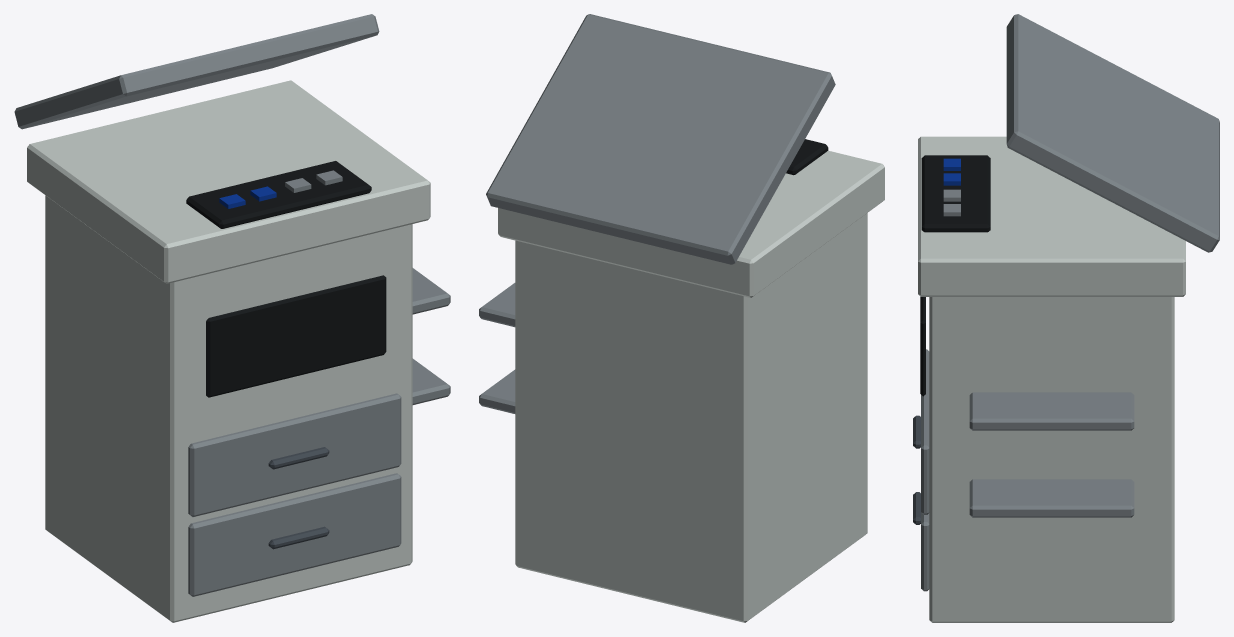
The model's file is Photocopier.fbx.
The picture shows the model from 3 angles, left to right: view 1: azimuth 30°, elevation 25°; view 2: azimuth 150°, elevation 25°; view 3: azimuth 270°, elevation 25°; orthographic projection. The views are drawn at different scales.
Parts seen in each view (by area): view 1: Photocopier; view 2: Photocopier; view 3: Photocopier.
Part boxes in pixels (box(x1,y1,x2,y2)): Photocopier: box(14, 14, 450, 622); Photocopier: box(479, 14, 884, 622); Photocopier: box(913, 14, 1219, 622).
Bounding box in the file's own units: 90.5 × 142 × 80.07.
1 material, 1 textured.
